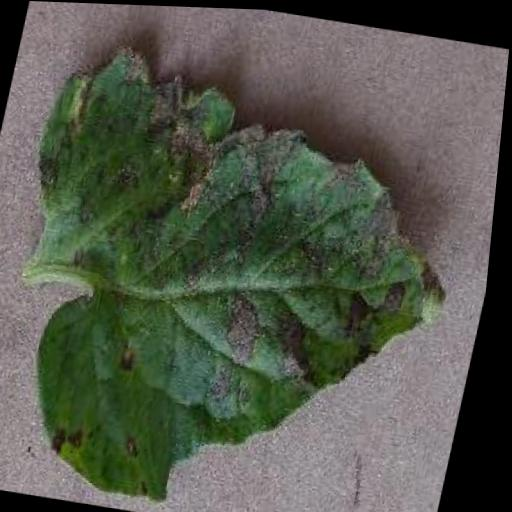Early Blight: (0, 31, 499, 512)
